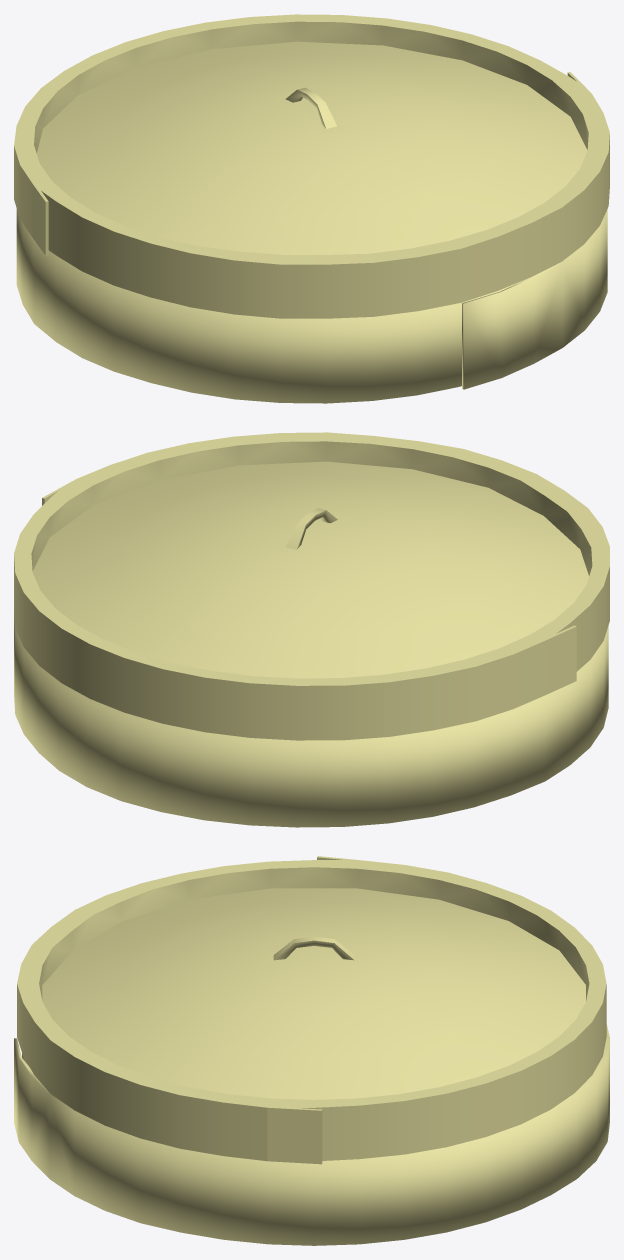
The model's file is Prop_BambooSteamer.fbx.
The picture shows the model from 3 angles, top to bottom: view 1: azimuth 30°, elevation 25°; view 2: azimuth 150°, elevation 25°; view 3: azimuth 270°, elevation 25°; orthographic projection. The views are drawn at different scales.
Parts seen in each view (by area): view 1: Steamer_Hat, Bamboo_Steamer; view 2: Steamer_Hat, Bamboo_Steamer; view 3: Steamer_Hat, Bamboo_Steamer.
Boxes of the visible parts, x1,y1,x2,y2 form: Steamer_Hat: (14,14,609,318); Bamboo_Steamer: (16,209,607,403); Steamer_Hat: (14,432,609,740); Bamboo_Steamer: (14,611,608,827); Steamer_Hat: (17,856,606,1164); Bamboo_Steamer: (14,1024,609,1245).
Bounding box in the file's own units: 38.76 × 13.08 × 38.33.
